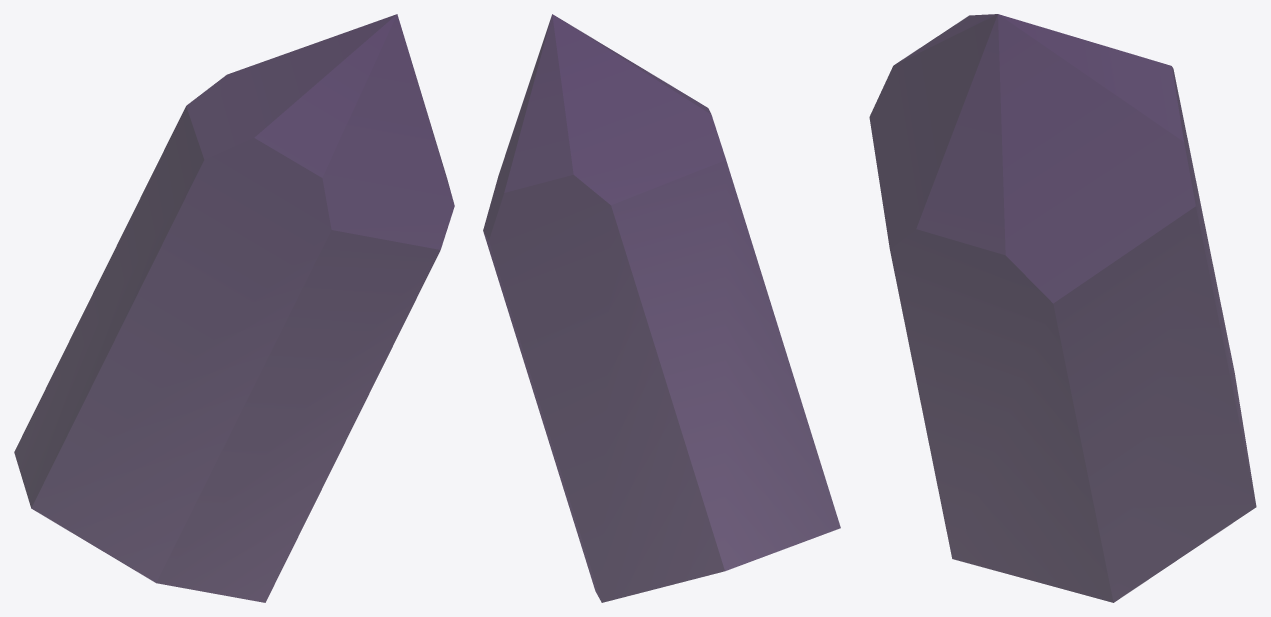
The model's file is specimen.glb.
3 renders of one model, left to right at view 1: azimuth 30°, elevation 25°; view 2: azimuth 150°, elevation 25°; view 3: azimuth 270°, elevation 25°, orthographic. The views are drawn at different scales.
Visible parts, largest first — view 1: amethyst-growth; view 2: amethyst-growth; view 3: amethyst-growth.
Boxes of the visible parts, left/top/right/bottom form: amethyst-growth: left=14, top=14, right=454, bottom=602; amethyst-growth: left=483, top=14, right=840, bottom=602; amethyst-growth: left=869, top=14, right=1256, bottom=602.
Size of the model in its own units: 0.016 by 0.0215 by 0.0118.
